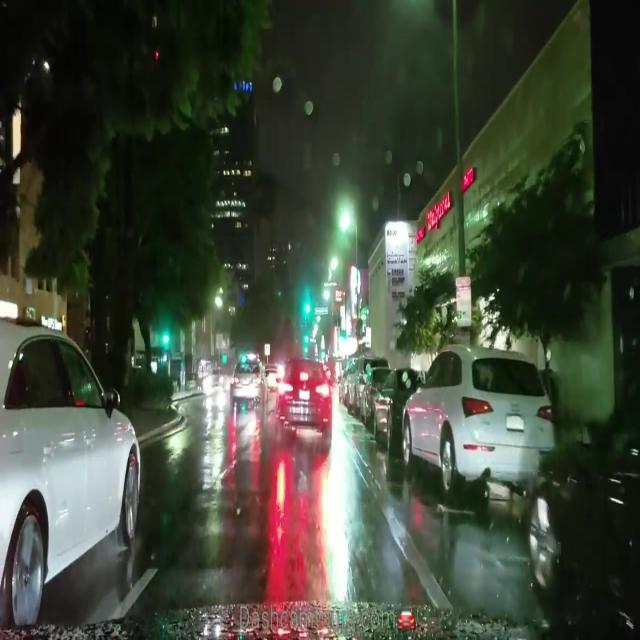Car: (2, 326, 137, 621), (399, 345, 548, 501), (530, 415, 639, 623), (276, 360, 330, 438), (372, 363, 405, 440), (230, 362, 265, 404)
